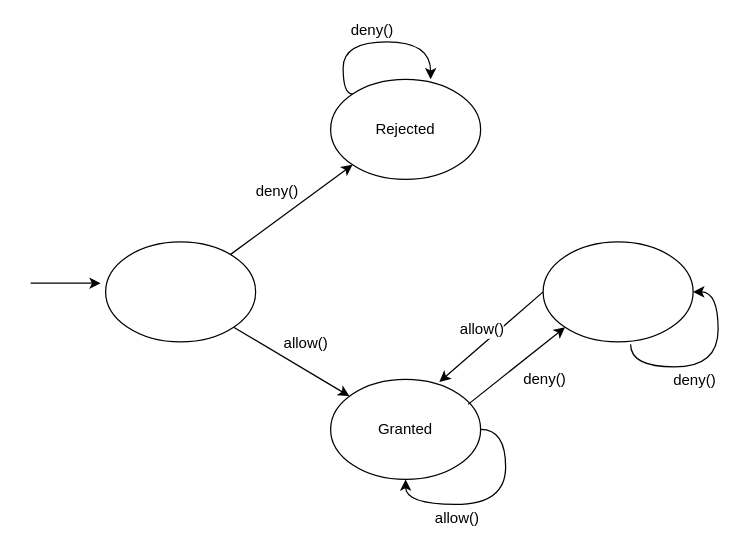
The diagram is 740 pixels wide and 548 high, and some of its shapes have lost their labels. Each missing label, with the centre of its shape:
"Pending" goes at point (180, 291).
"Suspended" goes at point (617, 291).
